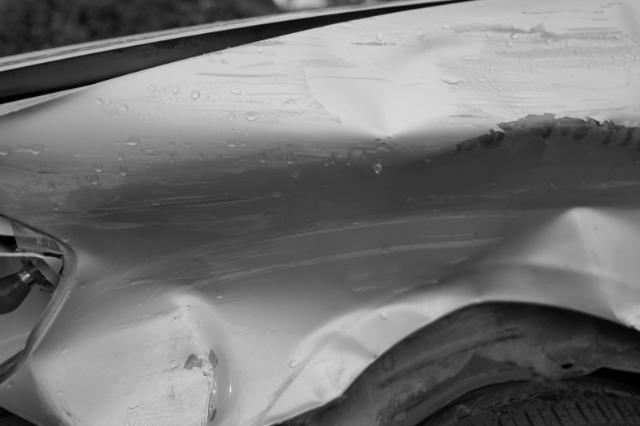Fender: (0, 20, 640, 389)
